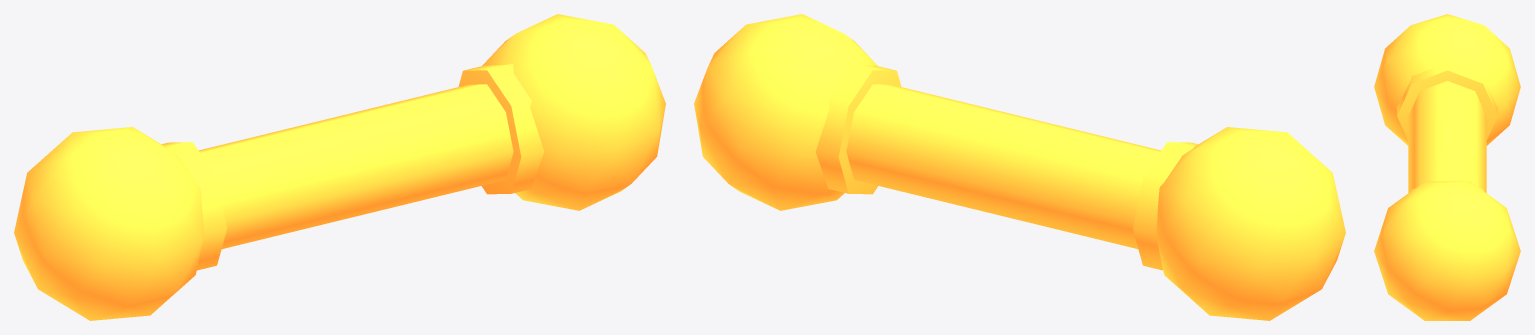
File: gold_guard_003.glb
The picture shows the model from 3 angles, left to right: view 1: azimuth 30°, elevation 25°; view 2: azimuth 150°, elevation 25°; view 3: azimuth 270°, elevation 25°; orthographic projection. The views are drawn at different scales.
Visible parts, largest first — view 1: gold_guard_003; view 2: gold_guard_003; view 3: gold_guard_003.
Part boxes in pixels (x1=…): gold_guard_003: x1=14, y1=14, x2=665, y2=320; gold_guard_003: x1=694, y1=14, x2=1345, y2=320; gold_guard_003: x1=1374, y1=14, x2=1520, y2=320.
Size of the model in its own units: 7.5 by 2.08 by 2.08.
1 material, 1 textured.
